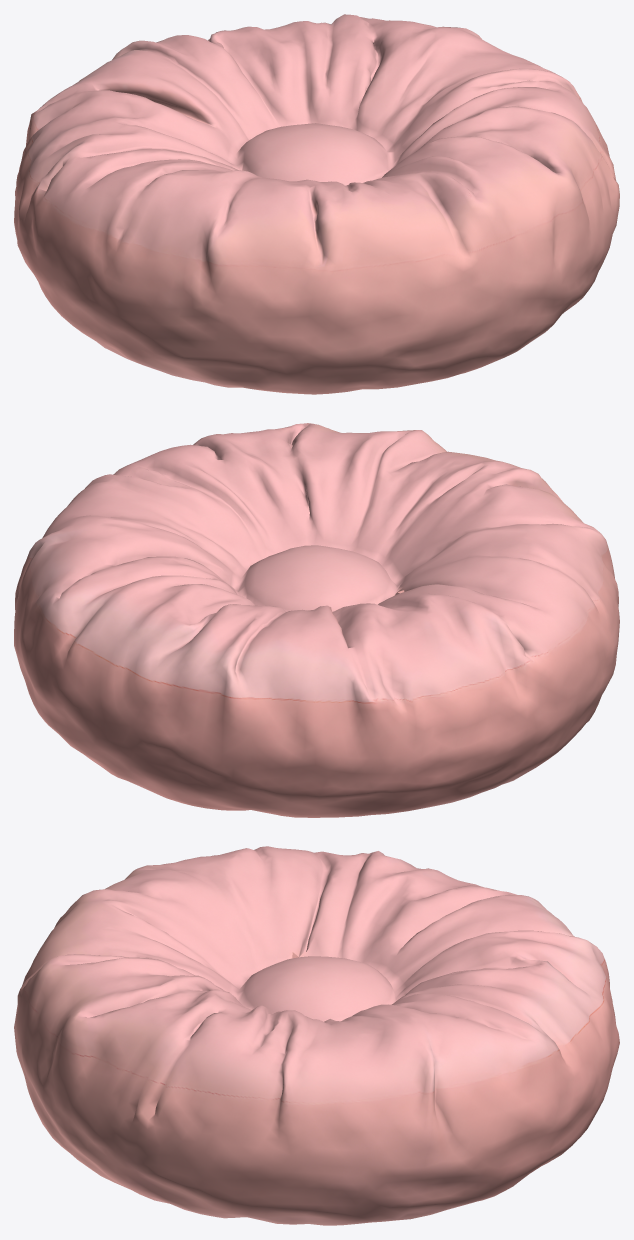
File: cushion.glb
The picture shows the model from 3 angles, top to bottom: view 1: azimuth 30°, elevation 25°; view 2: azimuth 150°, elevation 25°; view 3: azimuth 270°, elevation 25°; orthographic projection.
Bounding box in the file's own units: 1.9 × 0.6771 × 1.91.
Materials: 1 (1 with a texture image).
